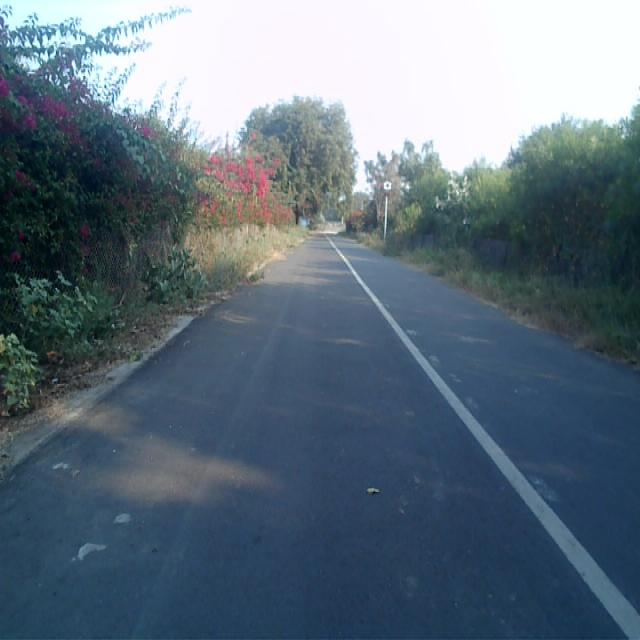lane: (0, 238, 631, 640)
